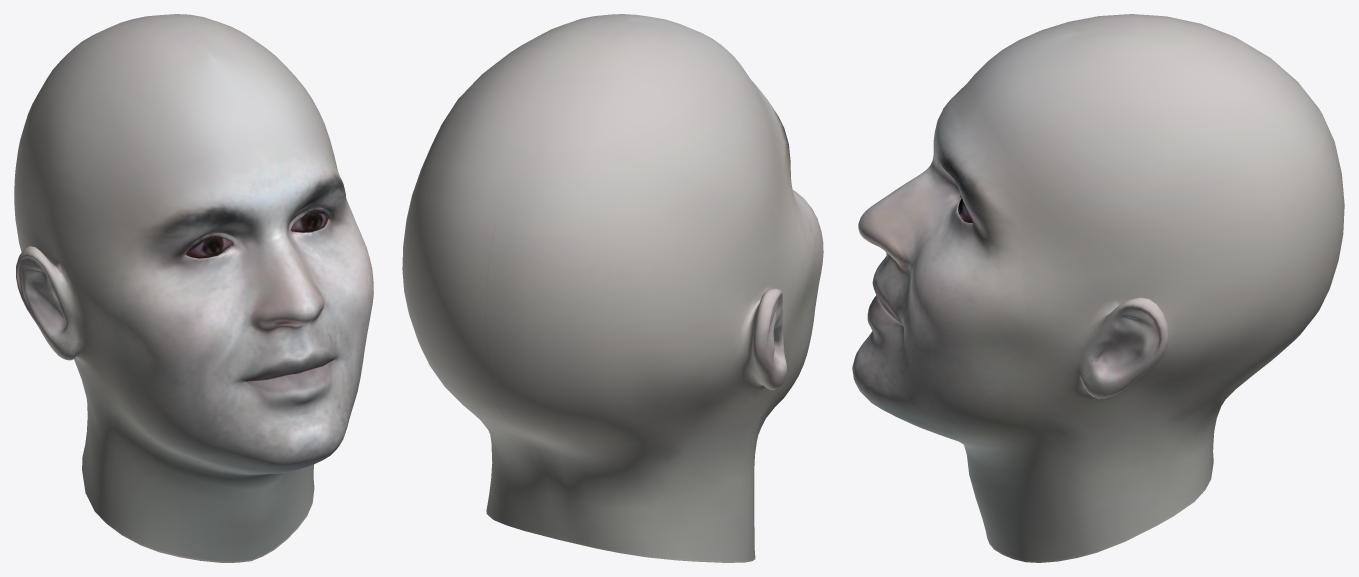
3 renders of one model, left to right at view 1: azimuth 30°, elevation 25°; view 2: azimuth 150°, elevation 25°; view 3: azimuth 270°, elevation 25°, orthographic. The views are drawn at different scales.
Visible parts, largest first — view 1: skin_hi, eyeR_hi, eyeL_hi; view 2: skin_hi; view 3: skin_hi.
Boxes of the visible parts, <box> form: skin_hi: <box>14,14,373,562</box>; eyeR_hi: <box>186,236,230,258</box>; eyeL_hi: <box>291,210,327,232</box>; skin_hi: <box>402,14,823,562</box>; skin_hi: <box>852,14,1344,562</box>.
Size of the model in its own units: 190 by 279 by 243.
